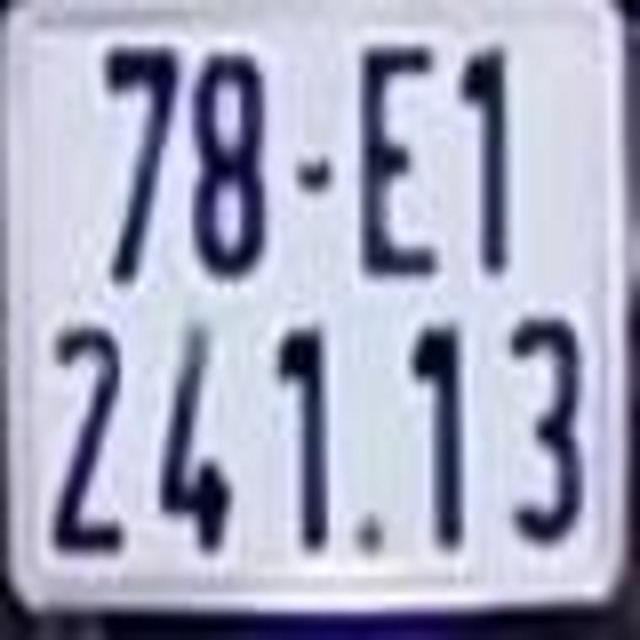1: (406, 304, 470, 547), (453, 38, 515, 280), (272, 313, 334, 551)
2: (39, 317, 126, 554)
3: (504, 311, 587, 544)
4: (152, 308, 240, 558)
7: (92, 37, 181, 288)
8: (187, 44, 272, 279)
E: (350, 37, 443, 274)
